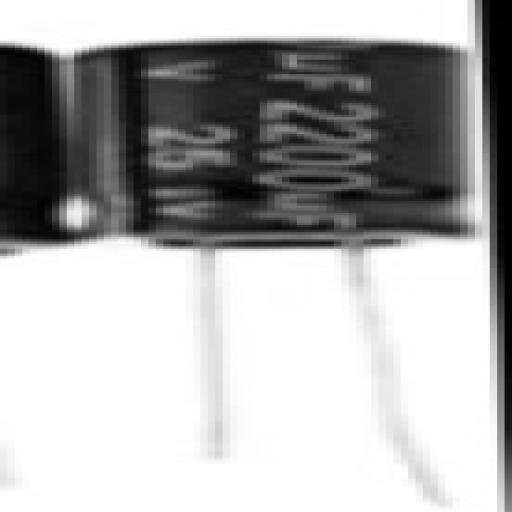CAPACITOR: (87, 28, 497, 260)
